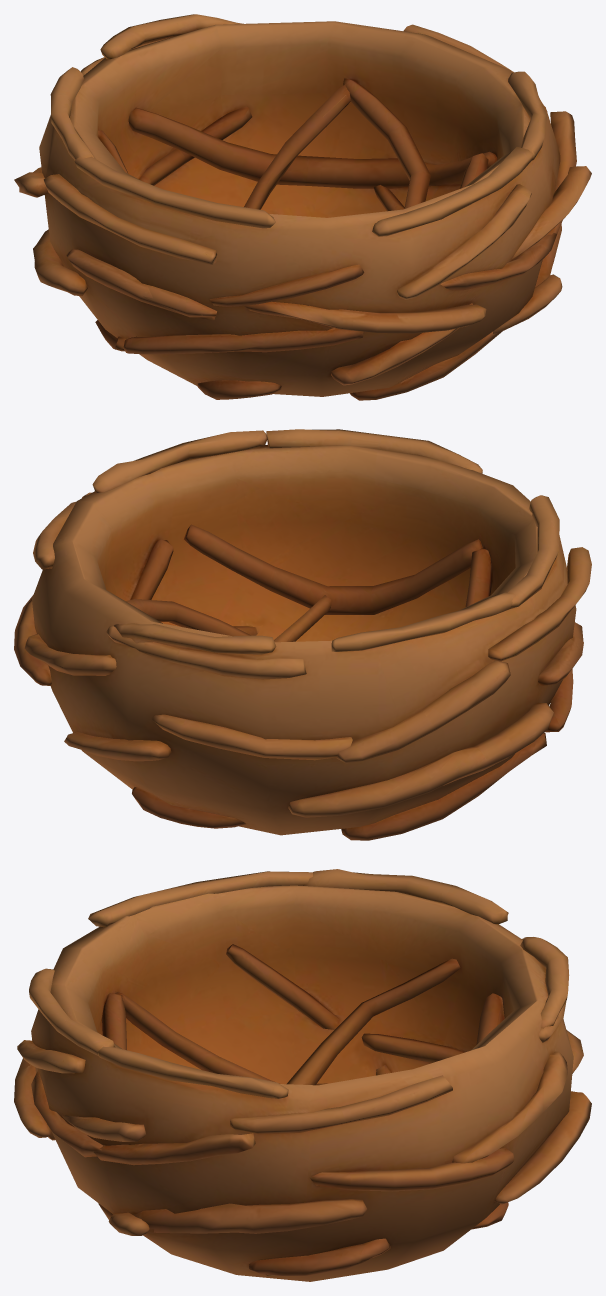
The model's file is nest.glb.
The picture shows the model from 3 angles, top to bottom: view 1: azimuth 30°, elevation 25°; view 2: azimuth 150°, elevation 25°; view 3: azimuth 270°, elevation 25°; orthographic projection. The views are drawn at different scales.
Parts seen in each view (by area): view 1: tripo_node_1c20dea1-047b-4209-acf7-1d59e96090d4; view 2: tripo_node_1c20dea1-047b-4209-acf7-1d59e96090d4; view 3: tripo_node_1c20dea1-047b-4209-acf7-1d59e96090d4.
Boxes of the visible parts, bbox=[...] form: tripo_node_1c20dea1-047b-4209-acf7-1d59e96090d4: bbox=[14, 14, 591, 400]; tripo_node_1c20dea1-047b-4209-acf7-1d59e96090d4: bbox=[14, 429, 591, 840]; tripo_node_1c20dea1-047b-4209-acf7-1d59e96090d4: bbox=[14, 869, 591, 1281].
Size of the model in its own units: 0.998 by 0.4551 by 0.9902.
1 material, 1 textured.
